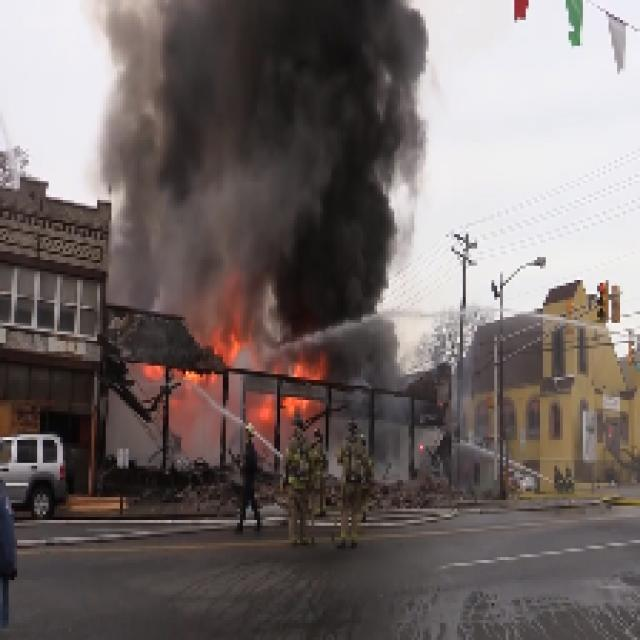Smoke: (137, 6, 380, 318)
